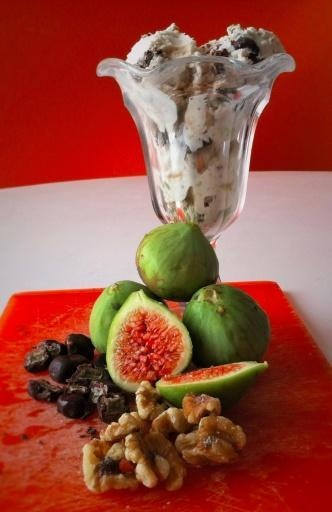background: (43, 18, 149, 395)
